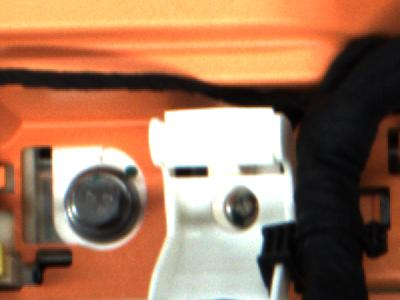nut_b: (59, 162, 136, 243)
